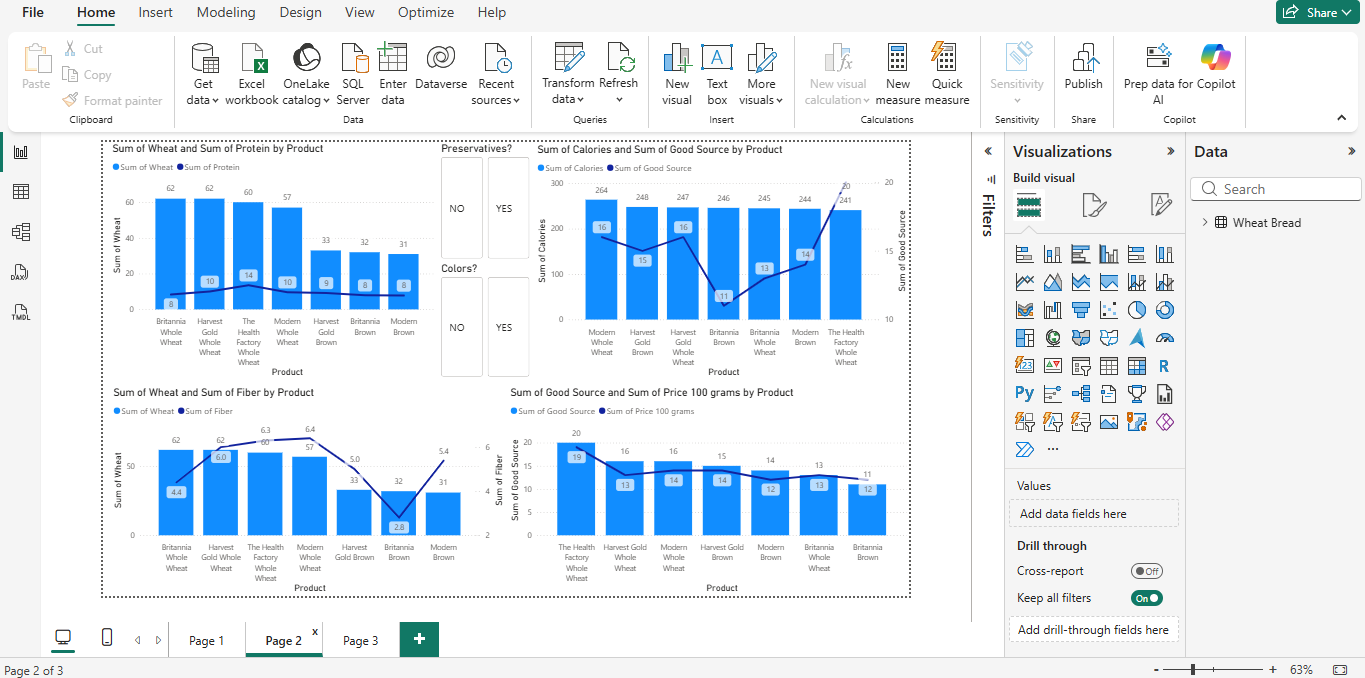

This screenshot's page, from the dashboard's own definition file:
{"tool":"powerbi","page":{"name":"Page 2","canvas":[1280,720],"ordinal":1},"visuals":[{"type":"lineStackedColumnComboChart","fields":{"Category":["Wheat Bread.Product"],"Y":["Sum(Wheat Bread.Wheat)"],"Y2":["Sum(Wheat Bread.Protein)"]},"box":[10.1,0,522.3,378],"z":0},{"type":"lineStackedColumnComboChart","fields":{"Category":["Wheat Bread.Product"],"Y":["Sum(Wheat Bread.Wheat)"],"Y2":["Sum(Wheat Bread.Fiber)"]},"box":[11.5,386.7,629,333.3],"z":1},{"type":"lineStackedColumnComboChart","fields":{"Category":["Wheat Bread.Product"],"Y":["Sum(Wheat Bread.Calories)"],"Y2":["Sum(Wheat Bread.Good Source)"]},"box":[683.9,1.4,595.9,376.6],"z":2},{"type":"lineStackedColumnComboChart","fields":{"Category":["Wheat Bread.Product"],"Y":["Sum(Wheat Bread.Good Source)"],"Y2":["Sum(Wheat Bread.Price 100 grams)"]},"box":[640.6,386.7,639.1,333.3],"z":3},{"type":"advancedSlicerVisual","fields":{"Values":["Wheat Bread.Preservatives?"]},"box":[532.4,0,150,190.4],"z":4},{"type":"advancedSlicerVisual","fields":{"Values":["Wheat Bread.Colors?"]},"box":[532.4,190.4,150,187.6],"z":5}]}

Visuals, with their boxes on the page's 1280x720 design canvas (x1, y1, x2, y2). These are canvas units, not pixel positions in the 1365x678 screenshot, which may show the page scaled, cropped or inside an application window:
lineStackedColumnComboChart - Wheat Bread.Product x Sum(Wheat Bread.Wheat): <region>10, 0, 532, 378</region>
lineStackedColumnComboChart - Wheat Bread.Product x Sum(Wheat Bread.Wheat): <region>12, 387, 640, 720</region>
lineStackedColumnComboChart - Wheat Bread.Product x Sum(Wheat Bread.Calories): <region>684, 1, 1280, 378</region>
lineStackedColumnComboChart - Wheat Bread.Product x Sum(Wheat Bread.Good Source): <region>641, 387, 1280, 720</region>
advancedSlicerVisual - Wheat Bread.Preservatives?: <region>532, 0, 682, 190</region>
advancedSlicerVisual - Wheat Bread.Colors?: <region>532, 190, 682, 378</region>
